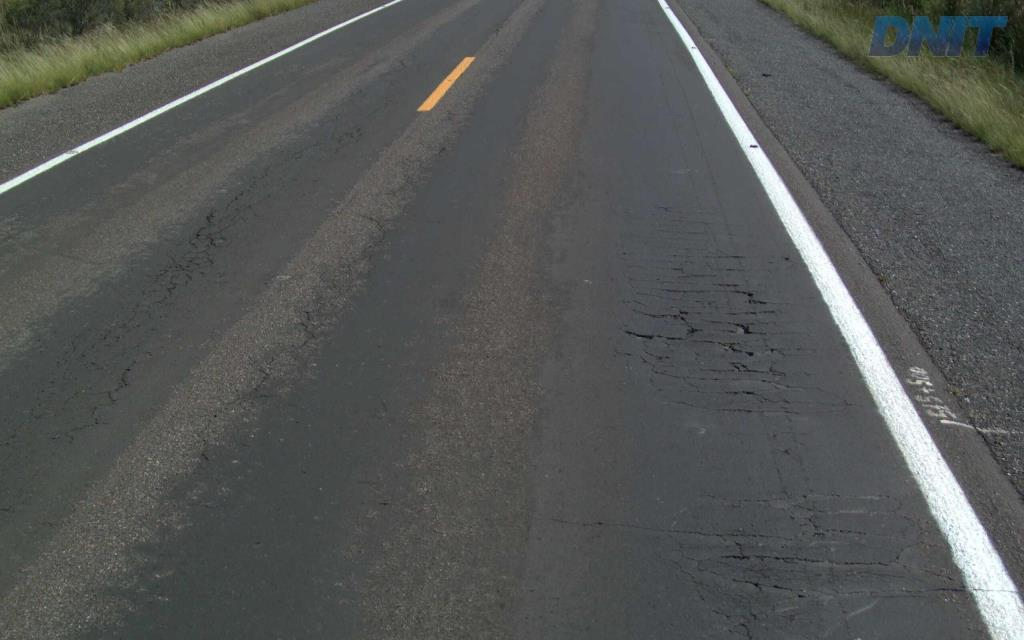crack: (624, 309, 703, 342)
